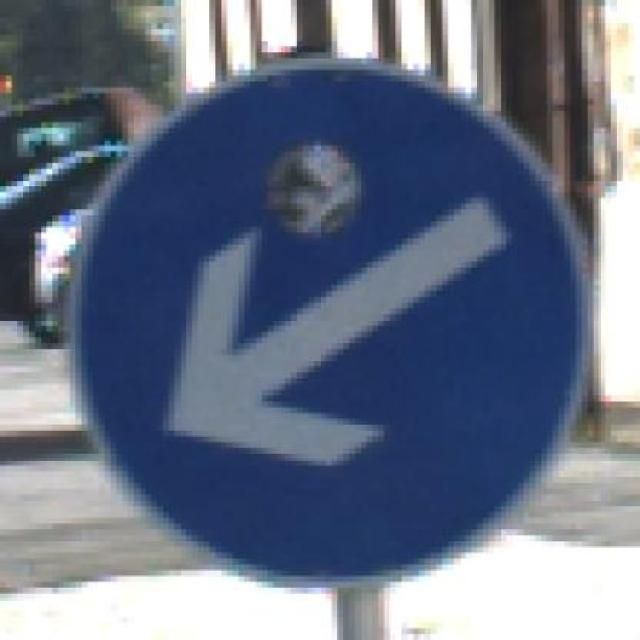Keep-Left: (52, 58, 600, 605)
